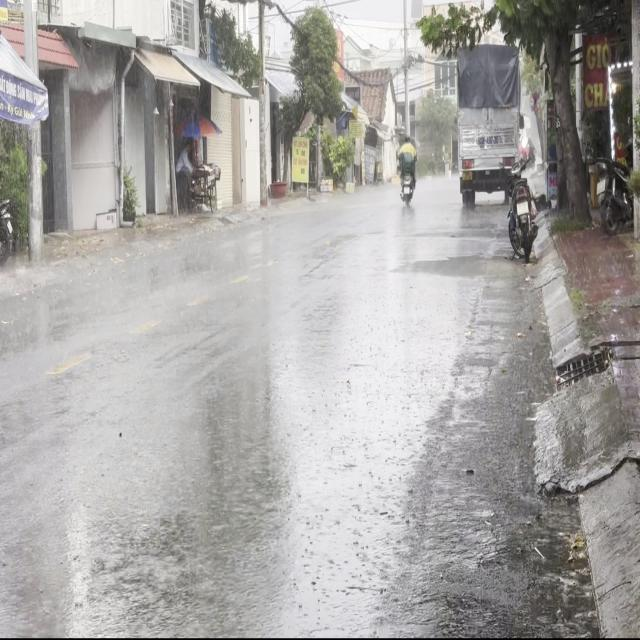nohelmet: (516, 200, 528, 214)
